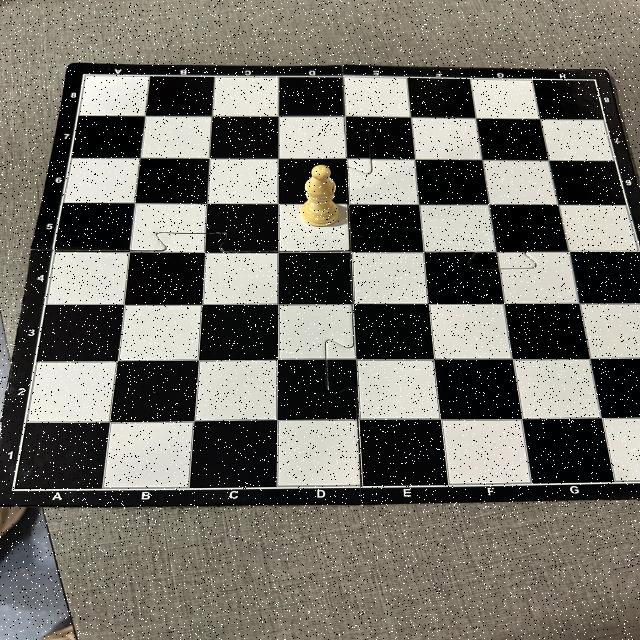White-Bishop: (300, 164, 340, 227)
